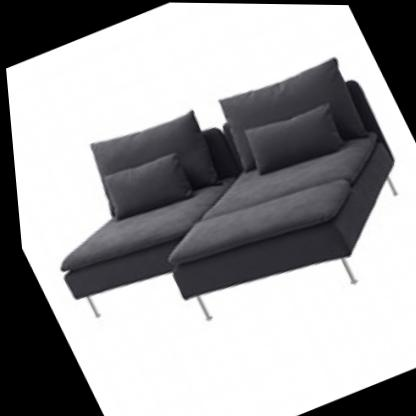Sofa: (1, 12, 416, 399)
